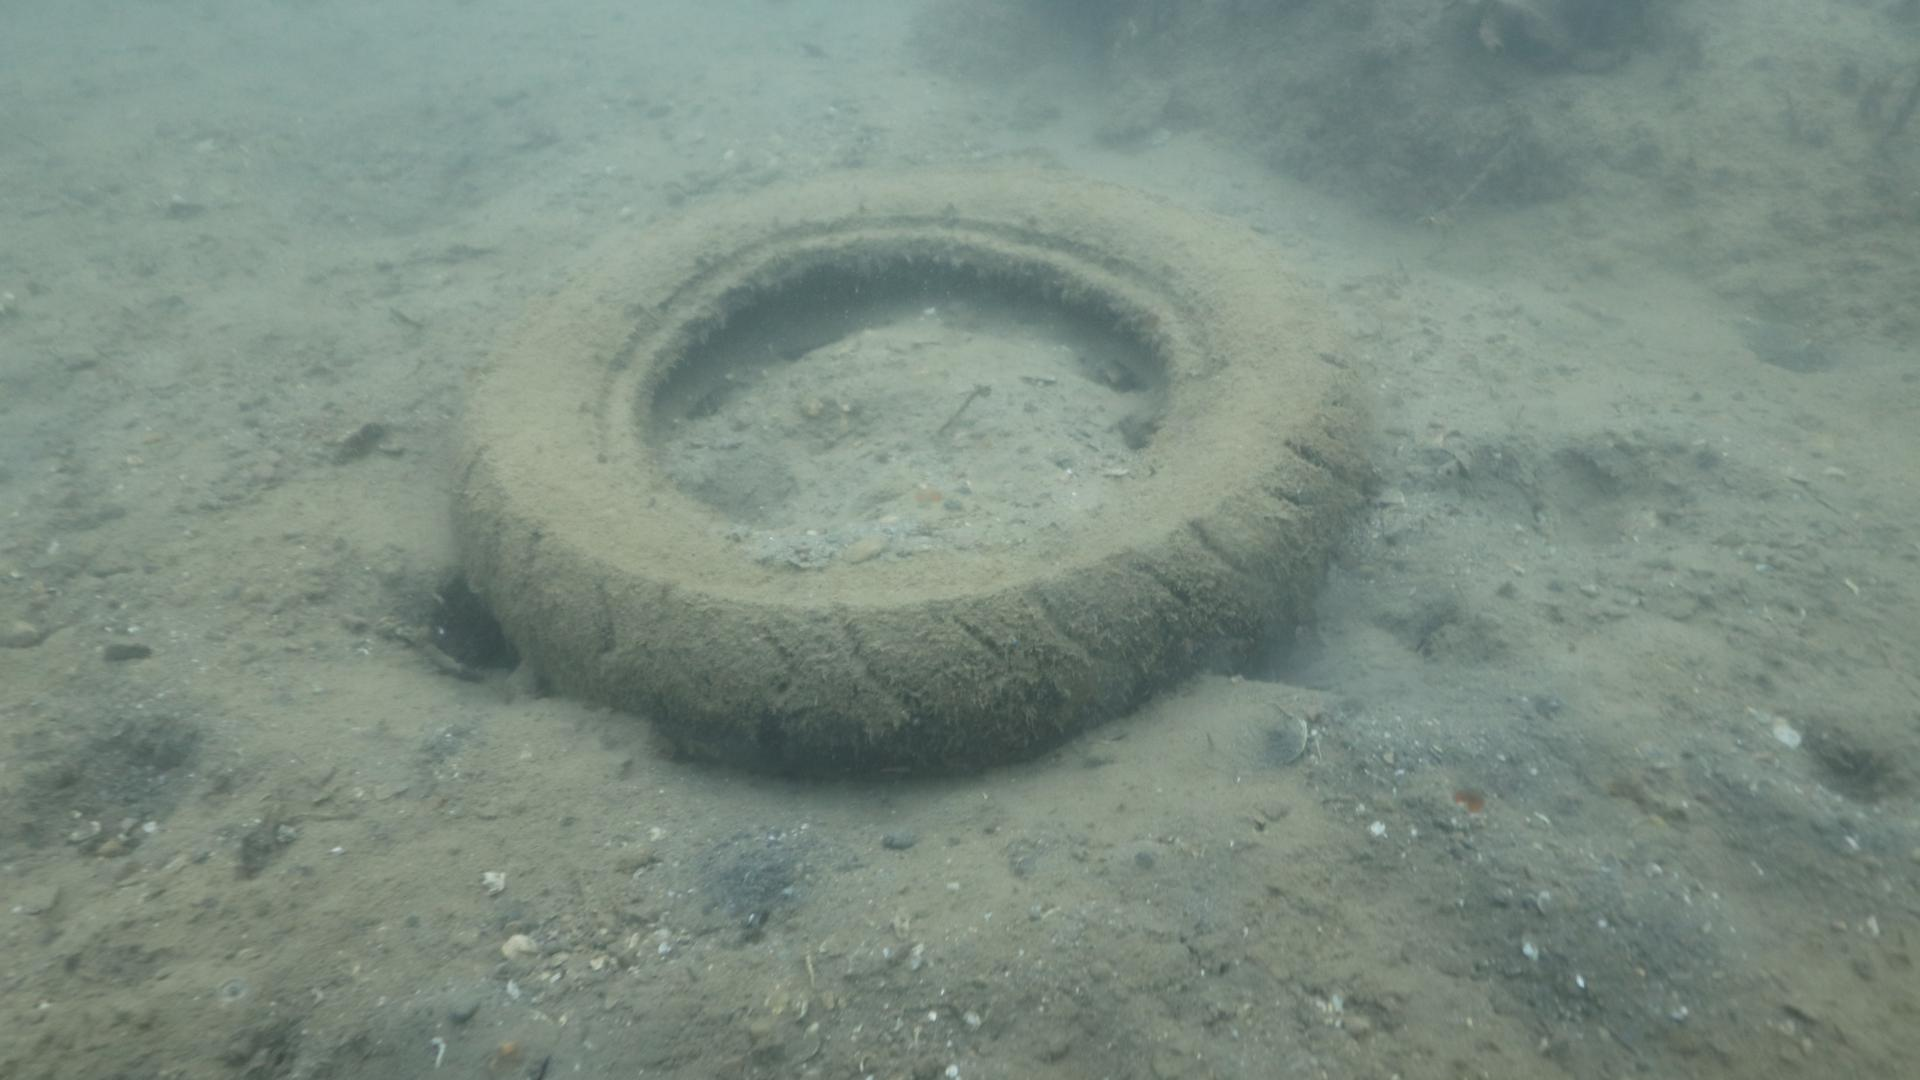tire: (444, 171, 1369, 782)
